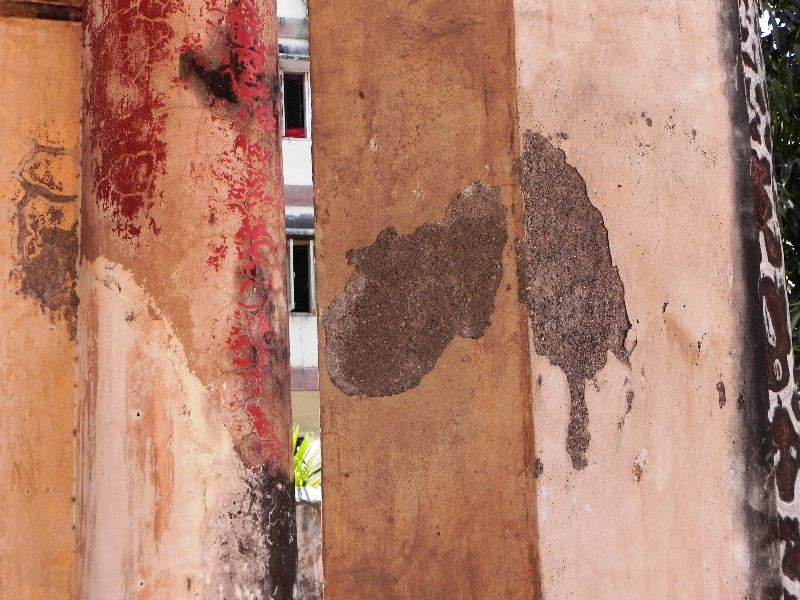Spalling: (318, 176, 513, 405), (514, 126, 634, 480)
